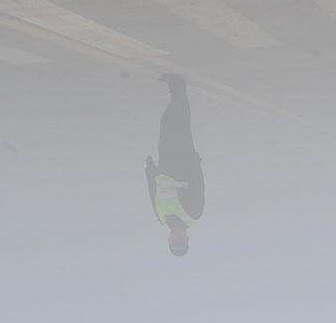person: (144, 71, 208, 259)
